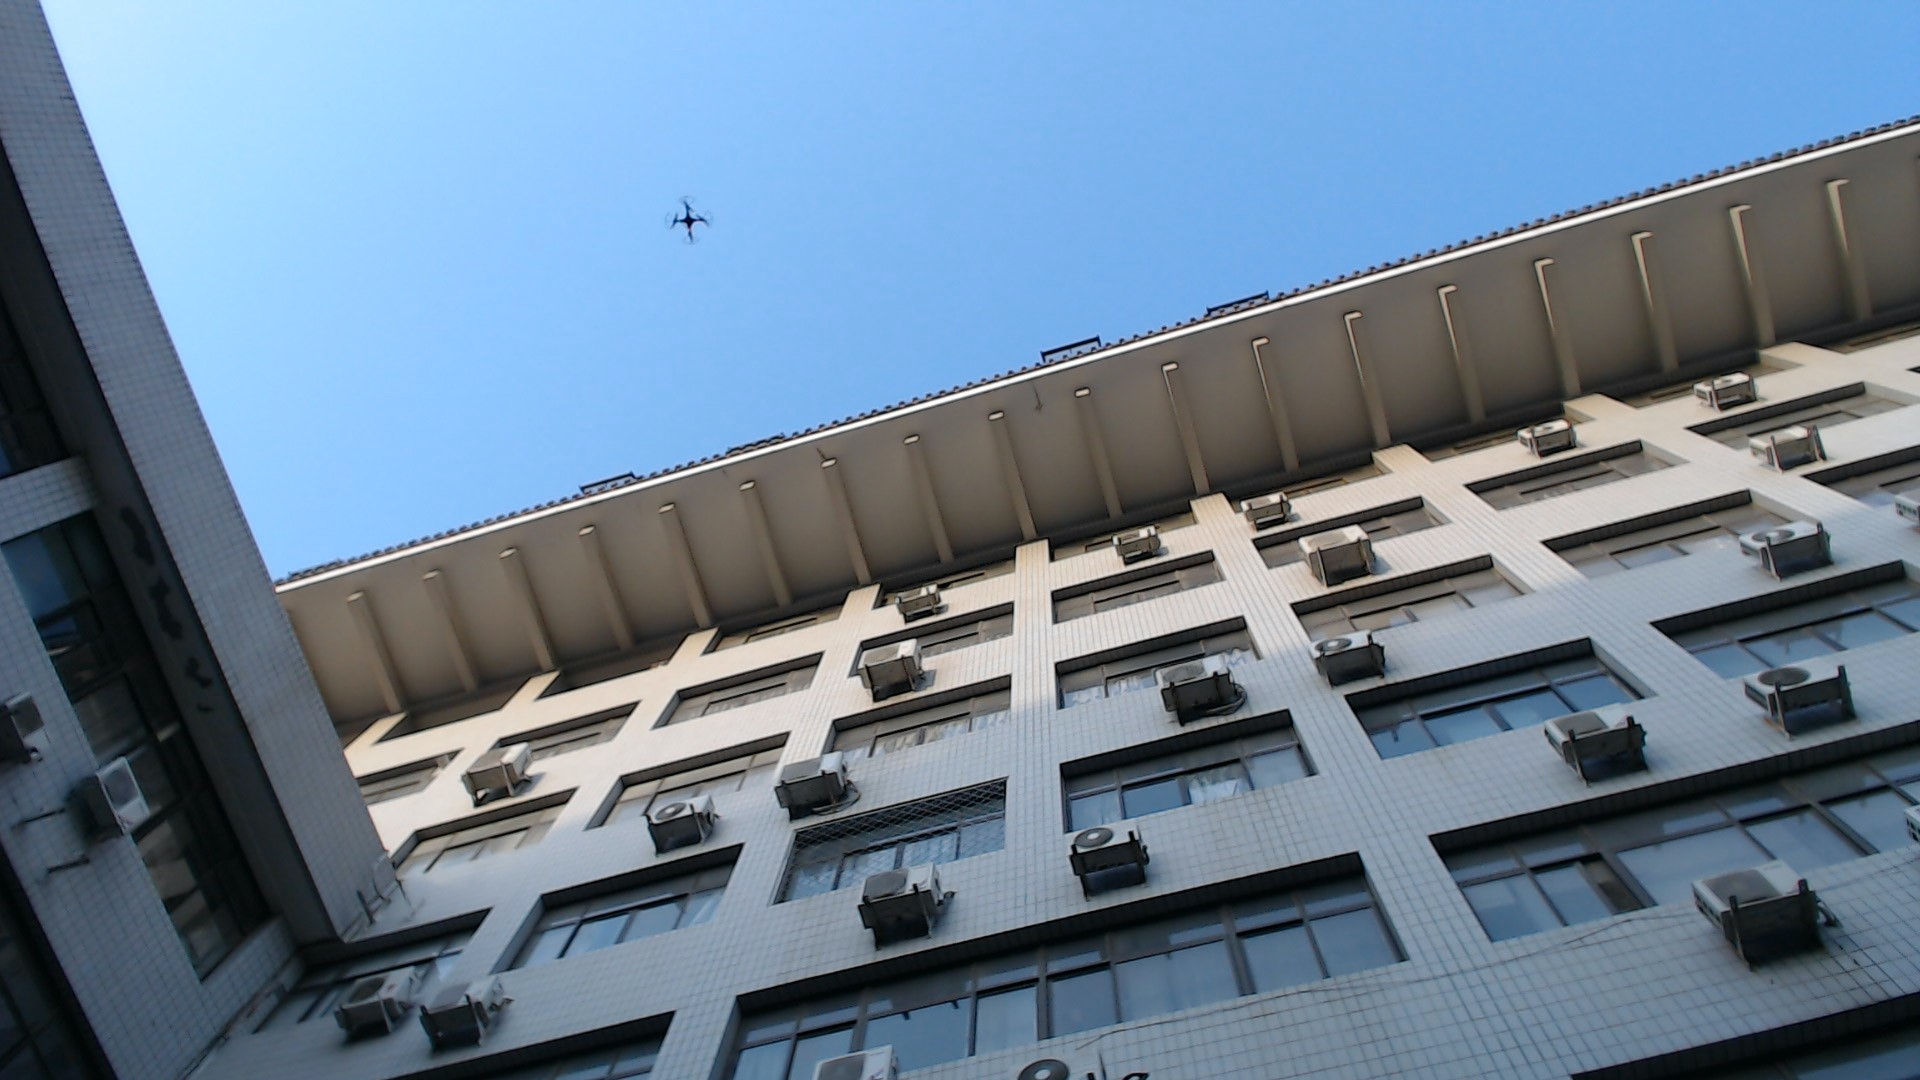drone: (646, 189, 731, 252)
